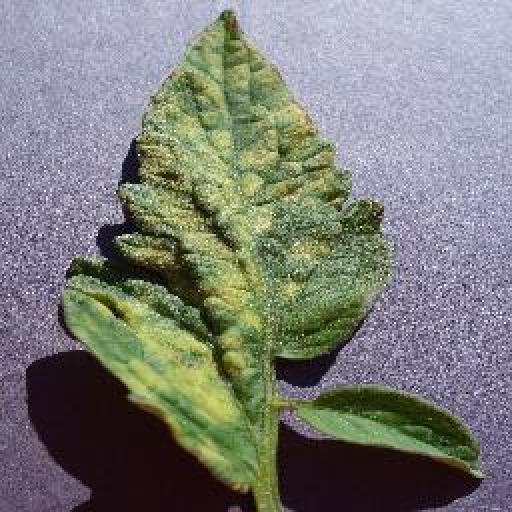disease_tomato: (59, 7, 387, 489)
